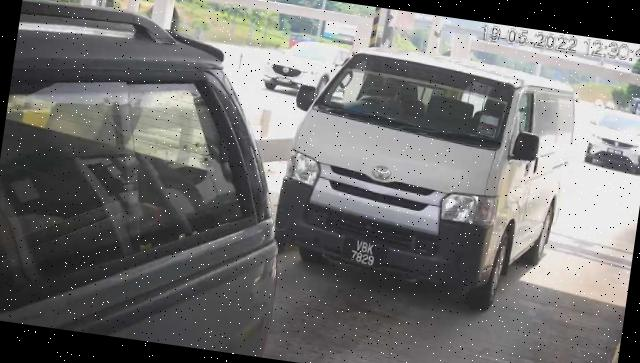License_Plate: (346, 234, 385, 272)
van: (270, 36, 583, 321)
